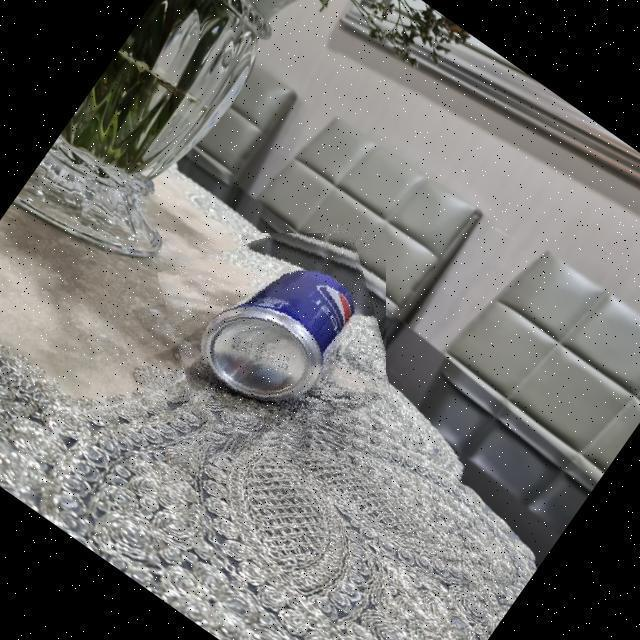recyclable: (168, 233, 386, 451)
